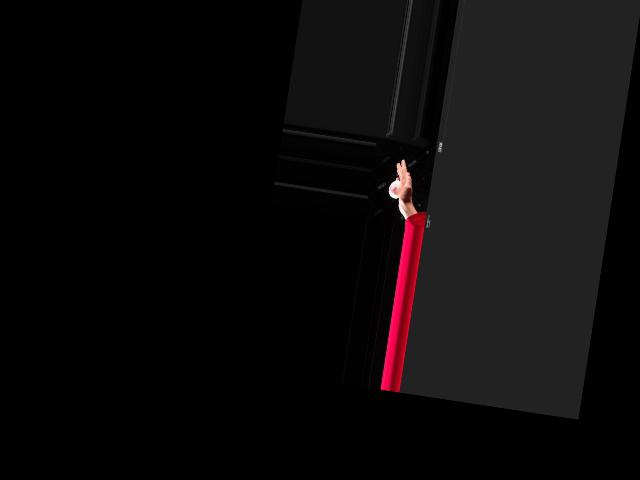egg: (387, 180, 402, 199)
